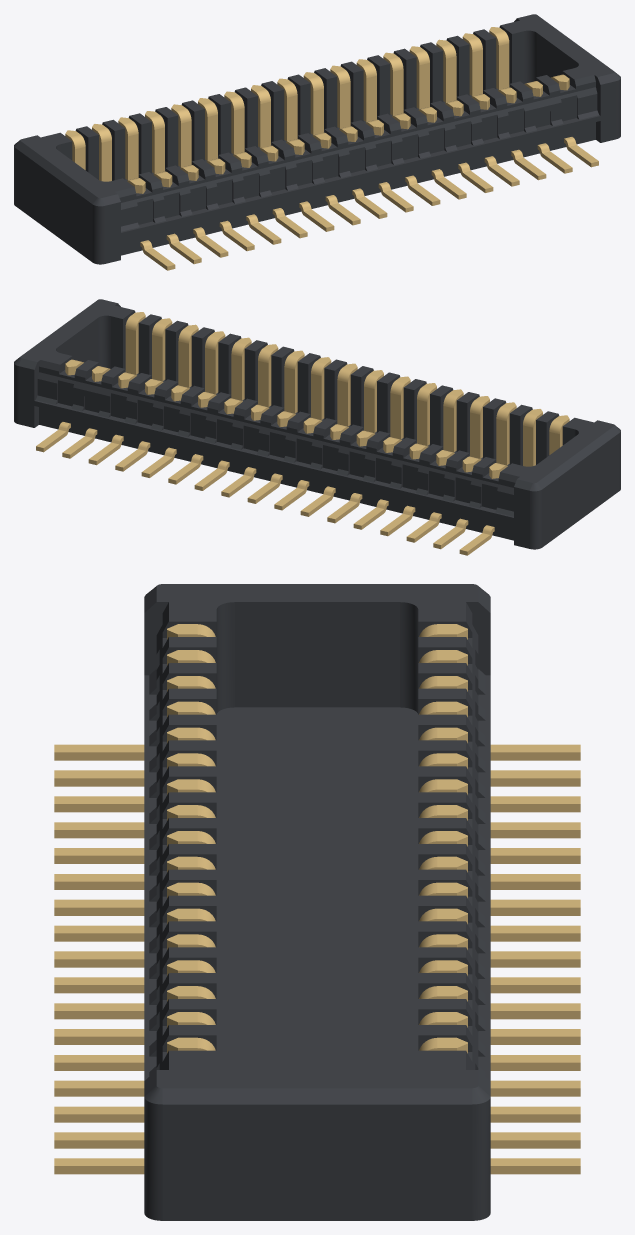
Rendered from kc-molex_slimstack_55560-0341_2x17_p0.50mm_vertical.glb.
3 renders of one model, top to bottom at view 1: azimuth 30°, elevation 25°; view 2: azimuth 150°, elevation 25°; view 3: azimuth 270°, elevation 25°, orthographic. The views are drawn at different scales.
Visible parts, largest first — view 1: 0.08333333333333333_0.08333333333333333_0.08333333333333333_, 0.75_0.5_0.25_0.9; view 2: 0.08333333333333333_0.08333333333333333_0.08333333333333333_, 0.75_0.5_0.25_0.9; view 3: 0.08333333333333333_0.08333333333333333_0.08333333333333333_, 0.75_0.5_0.25_0.9.
Boxes of the visible parts, x1,y1,x2,y2 form: 0.08333333333333333_0.08333333333333333_0.08333333333333333_: [14, 14, 620, 264]; 0.75_0.5_0.25_0.9: [65, 27, 598, 270]; 0.08333333333333333_0.08333333333333333_0.08333333333333333_: [14, 299, 620, 549]; 0.75_0.5_0.25_0.9: [36, 312, 569, 555]; 0.08333333333333333_0.08333333333333333_0.08333333333333333_: [144, 584, 490, 1220]; 0.75_0.5_0.25_0.9: [54, 624, 580, 1174].
Size of the model in its own units: 0.995 by 0.115 by 0.43.
